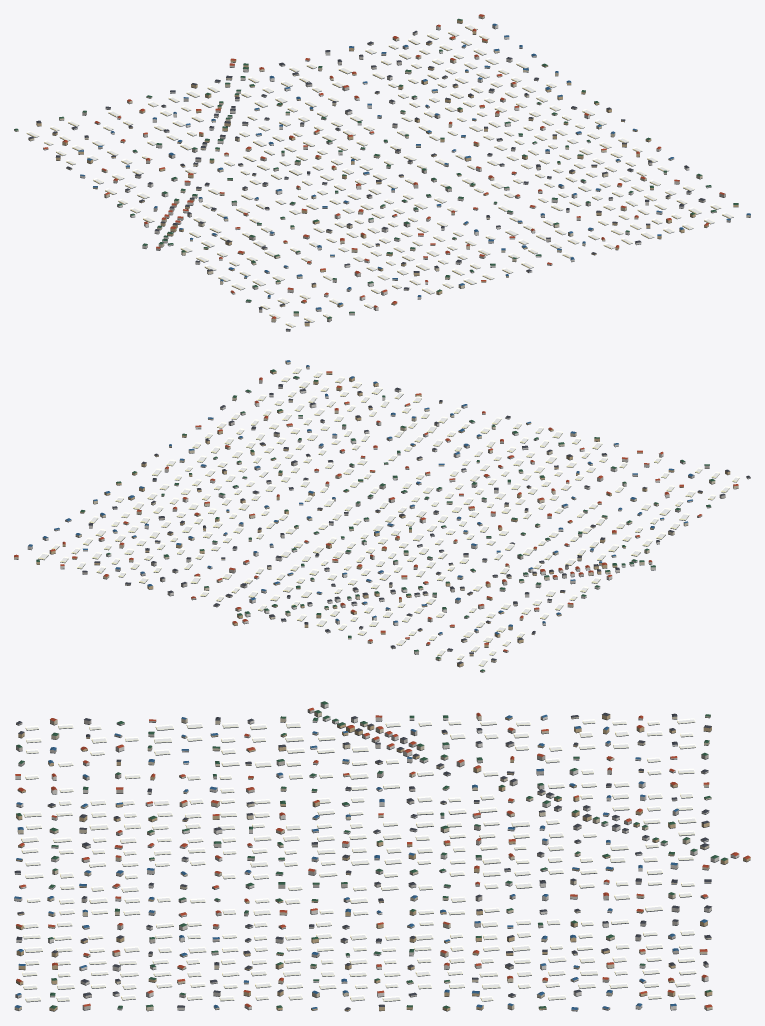
The model's file is buildings_T_E06_N04.glb.
The picture shows the model from 3 angles, top to bottom: view 1: azimuth 30°, elevation 25°; view 2: azimuth 150°, elevation 25°; view 3: azimuth 270°, elevation 25°; orthographic projection. The views are drawn at different scales.
Visible parts, largest first — view 1: T_E06_N04_roofs_agri_greenhouse_arch, T_E06_N04_slope_seating_foundations, T_E06_N04_walls_wall_pastel_sand_gray, T_E06_N04_walls_wall_french_ochre_villa, T_E06_N04_walls_wall_modern_warm_white, T_E06_N04_roofs_roof_slate_French_villa_hip, T_E06_N04_walls_wall_dalat_cream_stucco, T_E06_N04_roofs_roof_pine_green_hip, T_E06_N04_roofs_roof_terracotta_gable, T_E06_N04_roofs_roof_highland_blue_gable; view 2: T_E06_N04_roofs_agri_greenhouse_arch, T_E06_N04_slope_seating_foundations, T_E06_N04_walls_wall_modern_warm_white, T_E06_N04_walls_wall_french_ochre_villa, T_E06_N04_walls_wall_pastel_sand_gray, T_E06_N04_walls_wall_dalat_cream_stucco, T_E06_N04_roofs_roof_slate_French_villa_hip, T_E06_N04_roofs_roof_pine_green_hip, T_E06_N04_roofs_roof_terracotta_gable, T_E06_N04_roofs_roof_highland_blue_gable; view 3: T_E06_N04_roofs_agri_greenhouse_arch, T_E06_N04_slope_seating_foundations, T_E06_N04_walls_wall_french_ochre_villa, T_E06_N04_walls_wall_modern_warm_white, T_E06_N04_walls_wall_pastel_sand_gray, T_E06_N04_walls_wall_dalat_cream_stucco, T_E06_N04_roofs_roof_slate_French_villa_hip, T_E06_N04_roofs_roof_pine_green_hip, T_E06_N04_roofs_roof_terracotta_gable, T_E06_N04_roofs_roof_highland_blue_gable.
Boxes of the visible parts, bbox=[...] form: T_E06_N04_roofs_agri_greenhouse_arch: bbox=[26, 24, 733, 327]; T_E06_N04_slope_seating_foundations: bbox=[14, 17, 750, 331]; T_E06_N04_walls_wall_pastel_sand_gray: bbox=[43, 32, 730, 331]; T_E06_N04_walls_wall_french_ochre_villa: bbox=[36, 20, 738, 325]; T_E06_N04_walls_wall_modern_warm_white: bbox=[71, 25, 711, 310]; T_E06_N04_roofs_roof_slate_French_villa_hip: bbox=[28, 30, 705, 330]; T_E06_N04_walls_wall_dalat_cream_stucco: bbox=[14, 15, 750, 321]; T_E06_N04_roofs_roof_pine_green_hip: bbox=[14, 18, 738, 318]; T_E06_N04_roofs_roof_terracotta_gable: bbox=[43, 14, 724, 318]; T_E06_N04_roofs_roof_highland_blue_gable: bbox=[78, 23, 750, 309]; T_E06_N04_roofs_agri_greenhouse_arch: bbox=[38, 367, 739, 665]; T_E06_N04_slope_seating_foundations: bbox=[14, 363, 750, 672]; T_E06_N04_walls_wall_modern_warm_white: bbox=[27, 389, 669, 651]; T_E06_N04_walls_wall_french_ochre_villa: bbox=[36, 370, 730, 666]; T_E06_N04_walls_wall_pastel_sand_gray: bbox=[54, 366, 750, 654]; T_E06_N04_walls_wall_dalat_cream_stucco: bbox=[14, 361, 738, 672]; T_E06_N04_roofs_roof_slate_French_villa_hip: bbox=[82, 384, 750, 664]; T_E06_N04_roofs_roof_pine_green_hip: bbox=[36, 369, 715, 671]; T_E06_N04_roofs_roof_terracotta_gable: bbox=[14, 371, 738, 651]; T_E06_N04_roofs_roof_highland_blue_gable: bbox=[28, 360, 694, 634]; T_E06_N04_roofs_agri_greenhouse_arch: bbox=[21, 718, 696, 1001]; T_E06_N04_slope_seating_foundations: bbox=[14, 706, 750, 1011]; T_E06_N04_walls_wall_french_ochre_villa: bbox=[16, 714, 750, 1011]; T_E06_N04_walls_wall_modern_warm_white: bbox=[14, 703, 739, 1010]; T_E06_N04_walls_wall_pastel_sand_gray: bbox=[15, 709, 711, 1010]; T_E06_N04_walls_wall_dalat_cream_stucco: bbox=[14, 711, 712, 1010]; T_E06_N04_roofs_roof_slate_French_villa_hip: bbox=[14, 712, 711, 1009]; T_E06_N04_roofs_roof_pine_green_hip: bbox=[16, 701, 727, 1008]; T_E06_N04_roofs_roof_terracotta_gable: bbox=[15, 707, 750, 1007]; T_E06_N04_roofs_roof_highland_blue_gable: bbox=[14, 714, 707, 1009].
Bounding box in the file's own units: 1830 × 34.35 × 1851.
